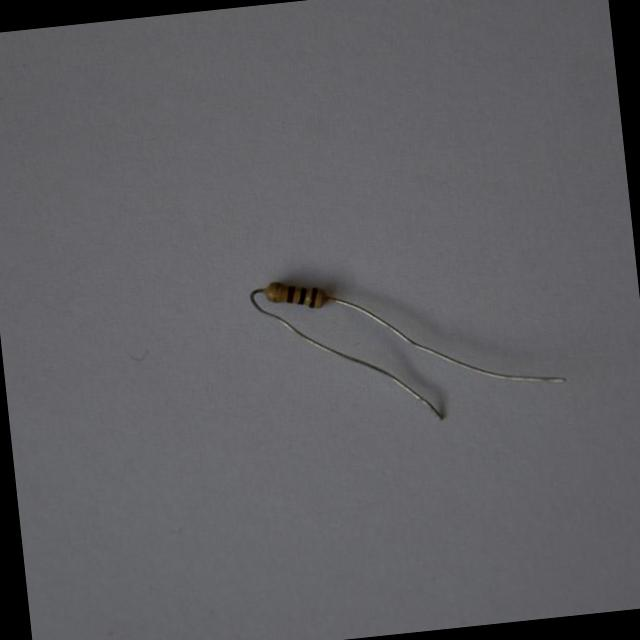Resistor: (263, 282, 326, 308)
black: (298, 287, 306, 304)
brown: (308, 287, 318, 308), (287, 285, 296, 303)
gold: (273, 284, 281, 302)
